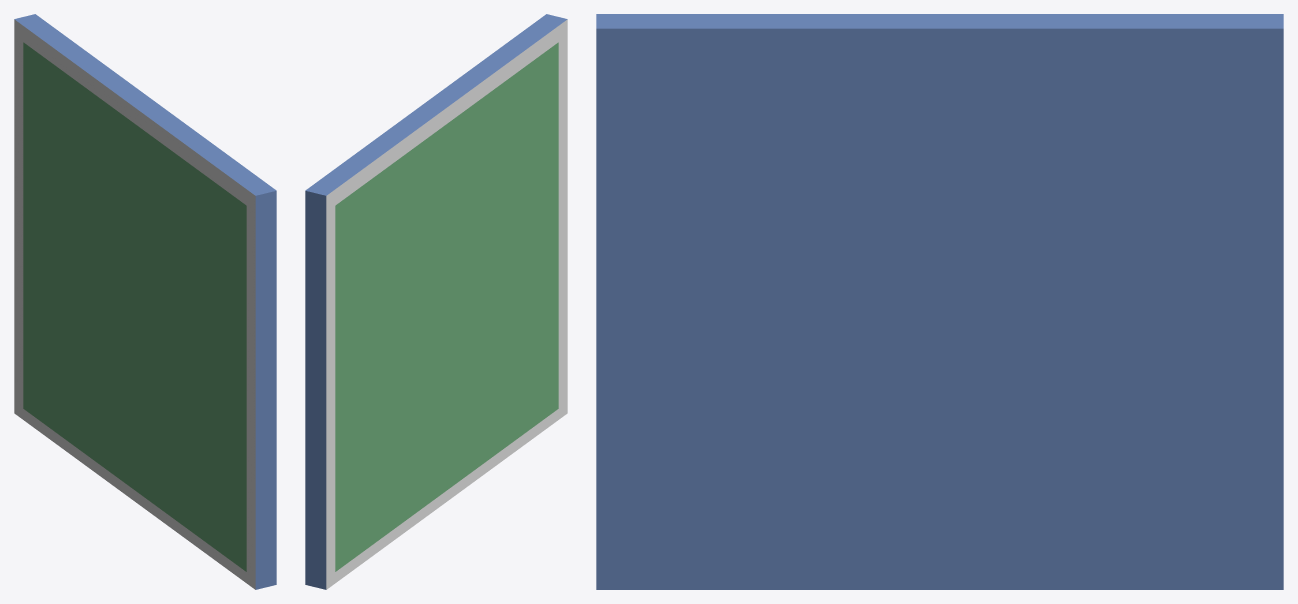
File: Wall-Inside.fbx
The picture shows the model from 3 angles, left to right: view 1: azimuth 30°, elevation 25°; view 2: azimuth 150°, elevation 25°; view 3: azimuth 270°, elevation 25°; orthographic projection. The views are drawn at different scales.
Parts seen in each view (by area): view 1: Wall-Inside; view 2: Wall-Inside; view 3: Wall-Inside.
Boxes of the visible parts, x1,y1,x2,y2 form: Wall-Inside: (14, 14, 276, 589); Wall-Inside: (305, 14, 567, 589); Wall-Inside: (596, 14, 1283, 589).
Size of the model in its own units: 40.62 by 721 by 800.
